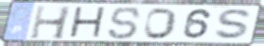6: (182, 8, 212, 40)
H: (28, 4, 74, 41), (67, 6, 108, 40)
O: (142, 7, 179, 40)
S: (212, 8, 255, 42), (107, 6, 143, 41)
